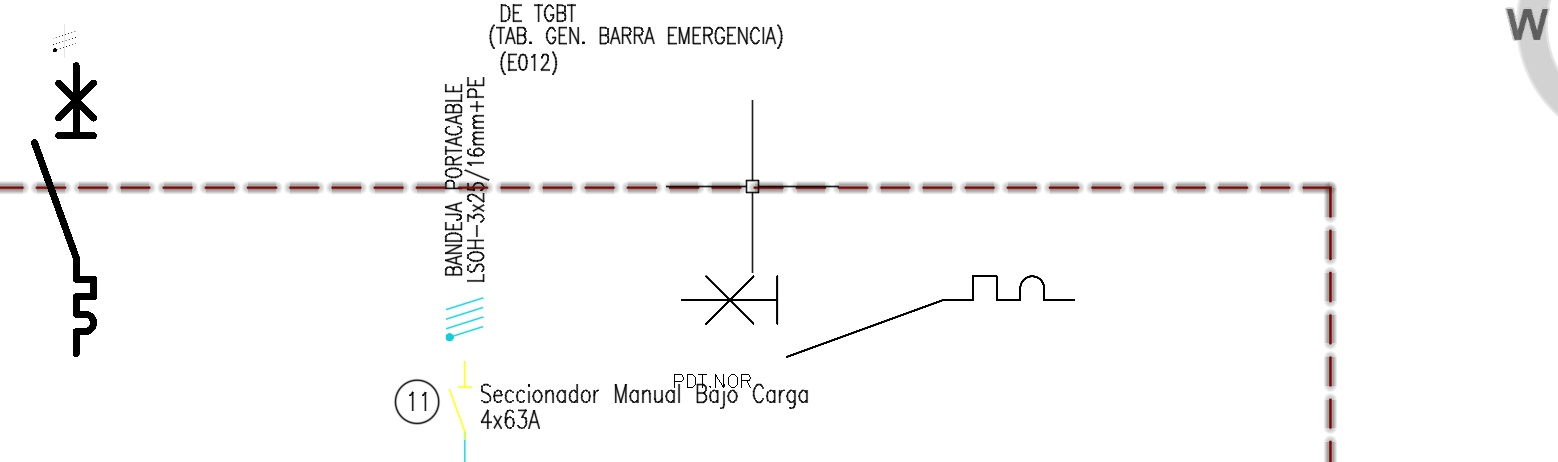interruptor_termomagnetico: (672, 266, 1084, 367), (27, 58, 101, 361)
